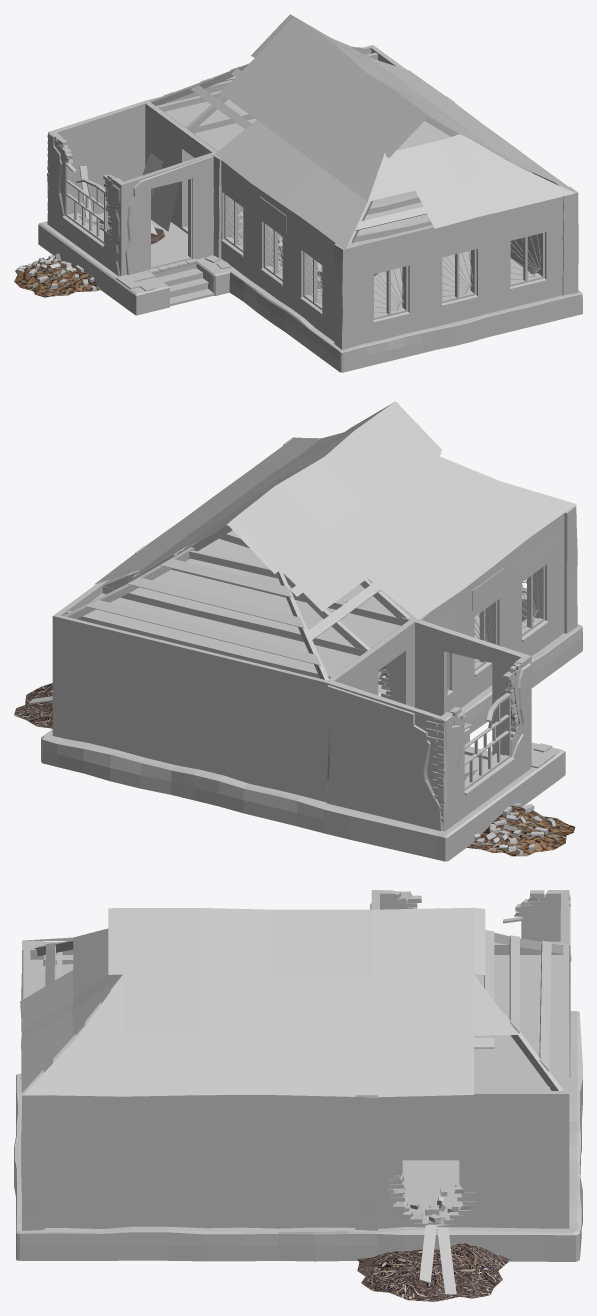
Rendered from SurvivalPostOffice_model.FBX.
The picture shows the model from 3 angles, top to bottom: view 1: azimuth 30°, elevation 25°; view 2: azimuth 150°, elevation 25°; view 3: azimuth 270°, elevation 25°; orthographic projection. The views are drawn at different scales.
Parts seen in each view (by area): view 1: Wall, Shifer, Fundament, Wood, Windows, PolPlitka, MusorOpilki_brickOblomki, MusorBrick, ReshetkaMetall, BilboardMail; view 2: Wall, Shifer, Wood, Fundament, Windows, MusorOpilki_brickOblomki, MusorBrick, BilboardMail; view 3: Shifer, Wall, Fundament, Wood, MusorOpilki_brickOblomki, MusorBrick, PolPlitka, WallInterior.
Boxes of the visible parts, <box> form: Wall: <box>47,45,578,349</box>; Shifer: <box>142,14,575,249</box>; Fundament: <box>38,213,582,372</box>; Wood: <box>79,46,531,282</box>; Windows: <box>62,163,546,323</box>; PolPlitka: <box>239,208,531,312</box>; MusorOpilki_brickOblomki: <box>14,220,378,297</box>; MusorBrick: <box>17,132,282,291</box>; ReshetkaMetall: <box>229,197,540,313</box>; BilboardMail: <box>259,196,286,232</box>; Wall: <box>52,437,577,831</box>; Shifer: <box>94,401,576,619</box>; Wood: <box>28,438,478,779</box>; Fundament: <box>41,624,582,861</box>; Windows: <box>447,566,548,795</box>; MusorOpilki_brickOblomki: <box>14,666,575,856</box>; MusorBrick: <box>378,663,555,855</box>; BilboardMail: <box>472,567,504,611</box>; Shifer: <box>20,907,518,1097</box>; Wall: <box>21,890,570,1230</box>; Fundament: <box>14,1011,582,1261</box>; Wood: <box>34,930,564,1294</box>; MusorOpilki_brickOblomki: <box>357,1243,509,1301</box>; MusorBrick: <box>388,890,571,1227</box>; PolPlitka: <box>402,1160,462,1219</box>; WallInterior: <box>402,1137,459,1160</box>.
Bounding box in the file's own units: 499 × 210 × 394.
